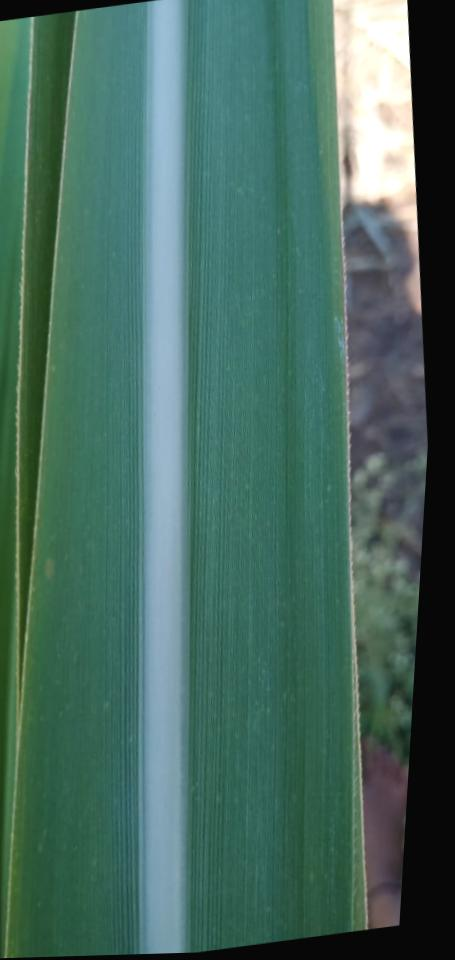Healthy: (7, 0, 354, 958), (15, 11, 74, 704), (0, 20, 29, 829)
